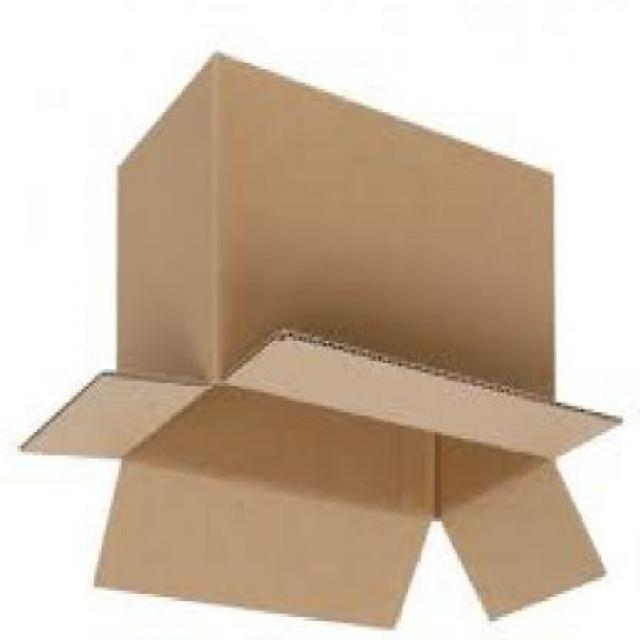box: (20, 60, 629, 634)
